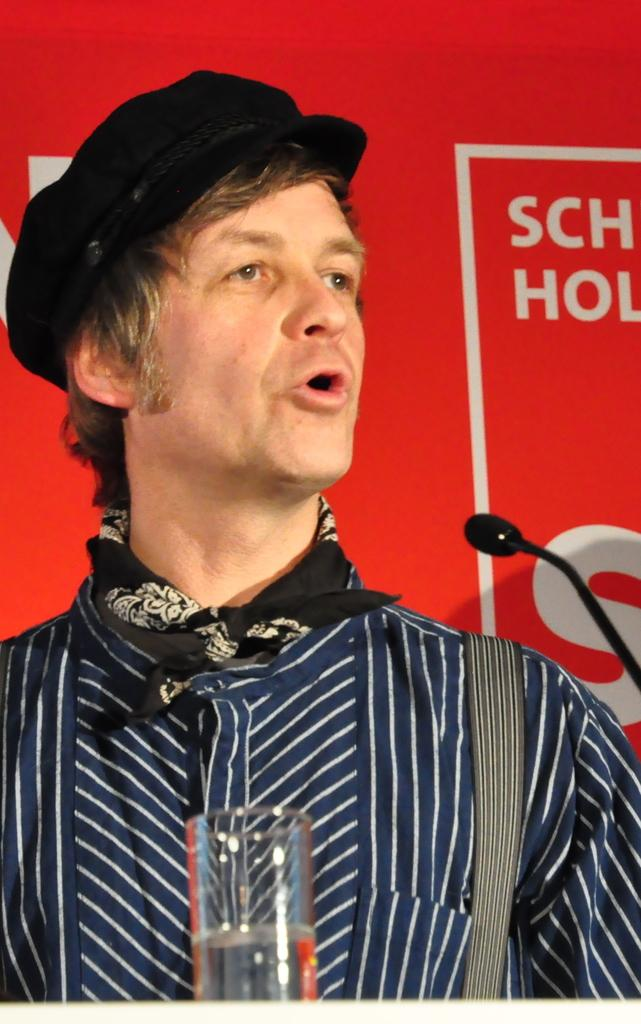Hat: (0, 66, 376, 392)
